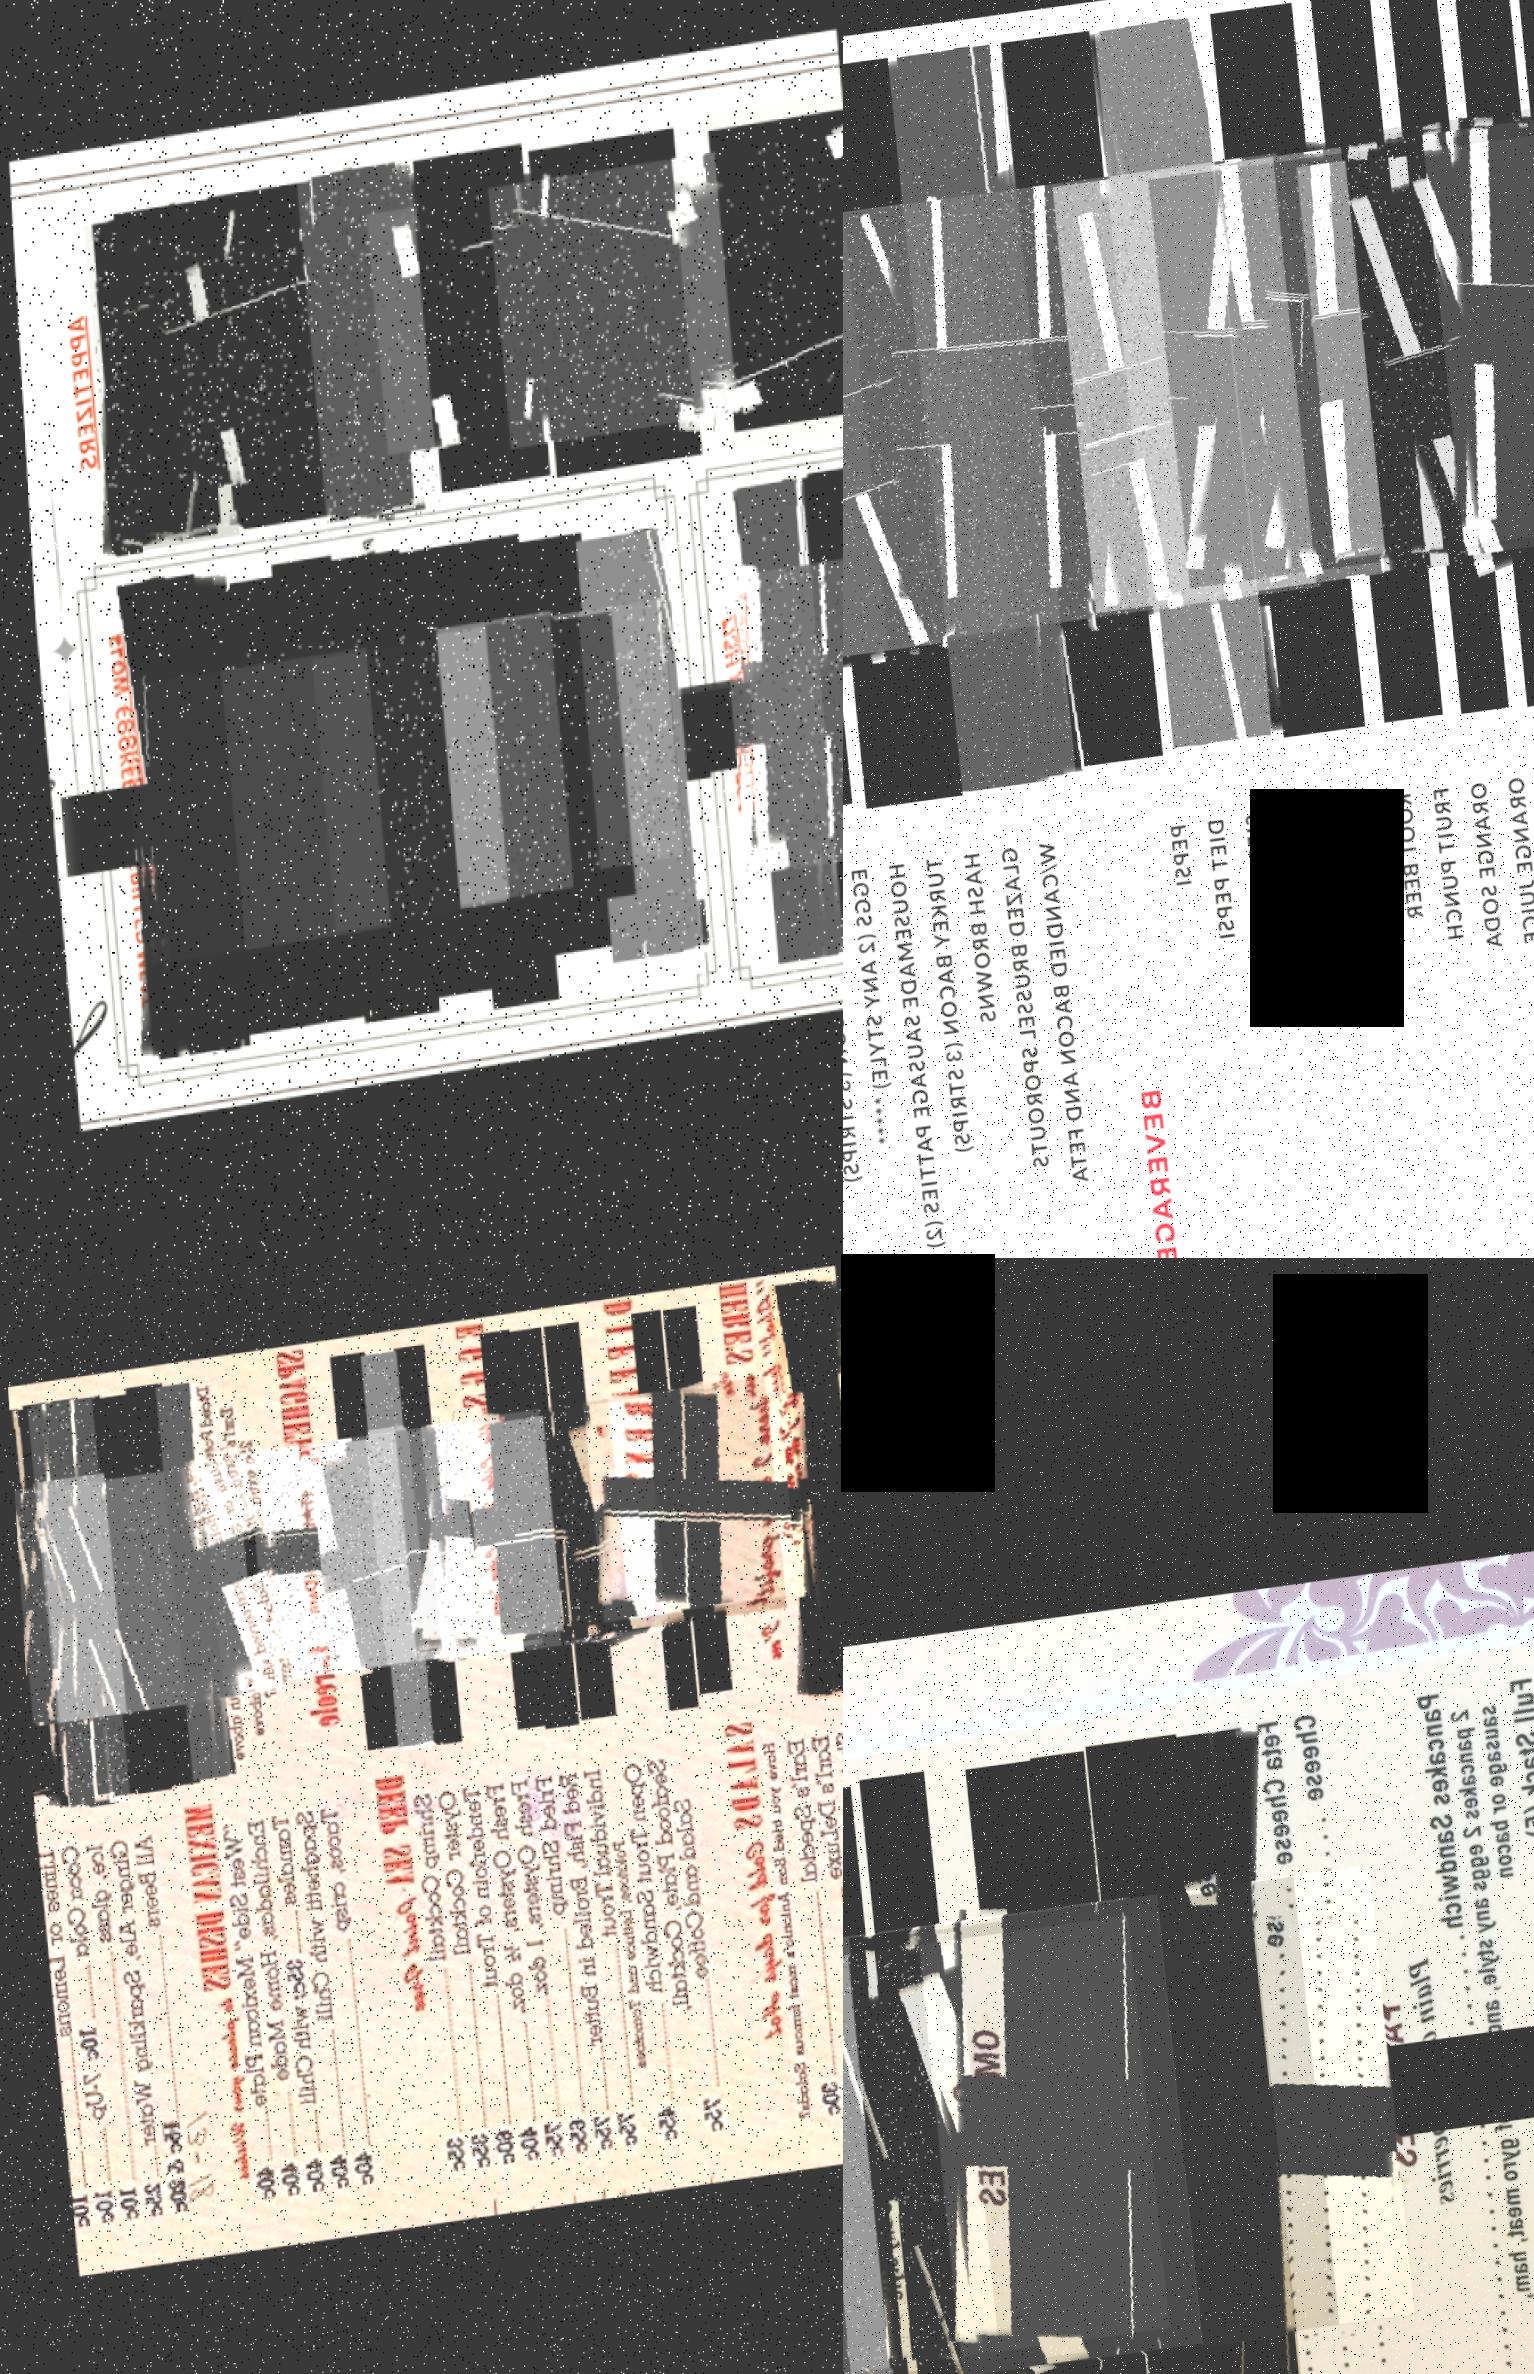Menu-Items: (906, 1877, 1401, 2374), (842, 1890, 1325, 2374), (842, 175, 1306, 661), (1043, 154, 1510, 633), (842, 1915, 1247, 2374), (1141, 151, 1534, 607), (1205, 135, 1534, 611), (842, 1903, 1157, 2374), (842, 190, 1114, 703), (880, 57, 1060, 810), (1088, 35, 1259, 772), (1288, 144, 1534, 587), (1135, 1737, 1294, 2374), (842, 1924, 1067, 2374), (1333, 112, 1534, 599), (175, 632, 450, 959), (1403, 1692, 1534, 2374), (301, 621, 569, 938), (363, 621, 630, 940), (114, 652, 379, 966), (240, 638, 503, 950), (842, 208, 1001, 701), (484, 168, 737, 465), (1273, 1722, 1385, 2374), (434, 611, 678, 900), (105, 571, 246, 1064), (1240, 1718, 1344, 2374), (1202, 1730, 1307, 2374), (35, 1453, 282, 1722), (419, 1405, 662, 1671), (538, 1391, 782, 1656), (10, 1464, 252, 1725), (842, 1936, 986, 2374), (154, 223, 384, 495), (361, 192, 590, 462), (244, 1429, 481, 1687), (308, 1426, 541, 1680), (579, 1389, 809, 1639), (396, 1414, 624, 1663), (1411, 125, 1534, 583), (569, 540, 695, 979), (463, 1410, 688, 1654), (730, 493, 837, 981), (292, 166, 432, 535), (12, 1473, 218, 1718), (668, 151, 842, 429), (111, 201, 239, 559), (713, 573, 842, 893), (29, 1395, 128, 1808), (12, 1476, 168, 1722), (635, 1760, 725, 2163), (937, 858, 1027, 1258), (975, 855, 1064, 1258), (865, 865, 955, 1258), (903, 863, 991, 1258), (768, 1293, 842, 1718), (569, 1770, 645, 2184), (360, 1357, 432, 1761), (152, 1383, 225, 1784), (80, 216, 161, 557), (842, 870, 913, 1258), (256, 1805, 320, 2218), (306, 1801, 370, 2215), (95, 1832, 159, 2242), (1498, 1677, 1534, 2374), (208, 1817, 268, 2225), (121, 1831, 182, 2237), (230, 1812, 291, 2218), (7, 1407, 69, 1801), (448, 1789, 508, 2194), (282, 1805, 341, 2217), (612, 1765, 671, 2175), (399, 1793, 458, 2196), (498, 1775, 555, 2184), (474, 1791, 533, 2187), (48, 1832, 104, 2236), (73, 1831, 128, 2234), (1017, 844, 1074, 1232), (545, 1782, 600, 2180), (29, 1836, 83, 2239), (524, 1777, 578, 2177), (431, 1794, 484, 2192), (842, 870, 879, 1258), (827, 1299, 842, 1708)
